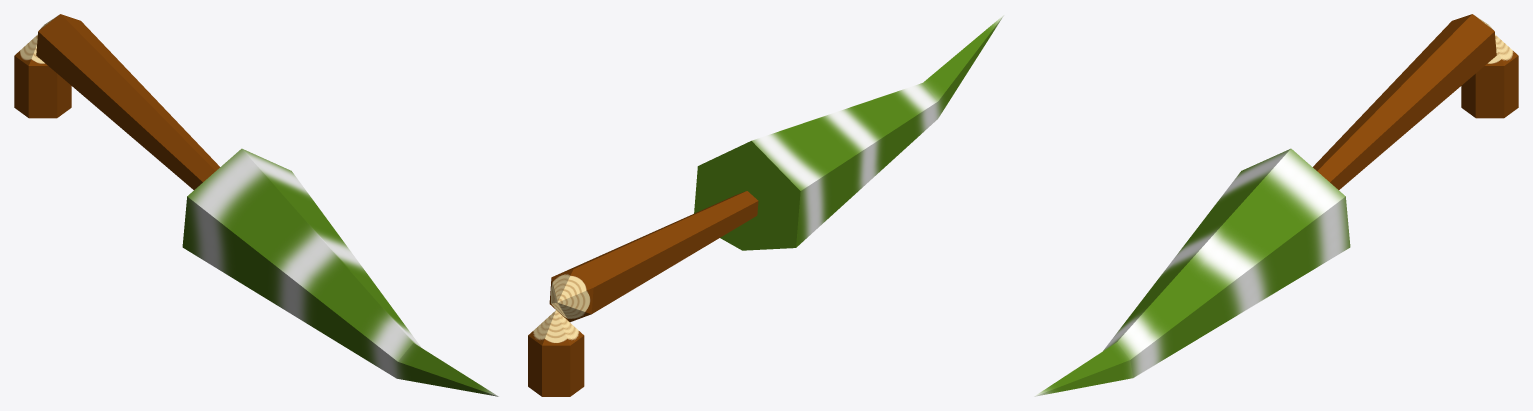
Rendered from arbre_couche.fbx.
3 views of the same model, side by side, from view 1: azimuth 30°, elevation 25°; view 2: azimuth 150°, elevation 25°; view 3: azimuth 330°, elevation 25° (orthographic).
Visible parts, largest first — view 1: Cylinder; view 2: Cylinder; view 3: Cylinder.
Part boxes in pixels (left/top/right/bottom): Cylinder: left=14, top=14, right=498, bottom=396; Cylinder: left=528, top=14, right=1004, bottom=396; Cylinder: left=1034, top=14, right=1518, bottom=396.
Size of the model in its own units: 106 by 103 by 824.
1 material, 1 textured.
